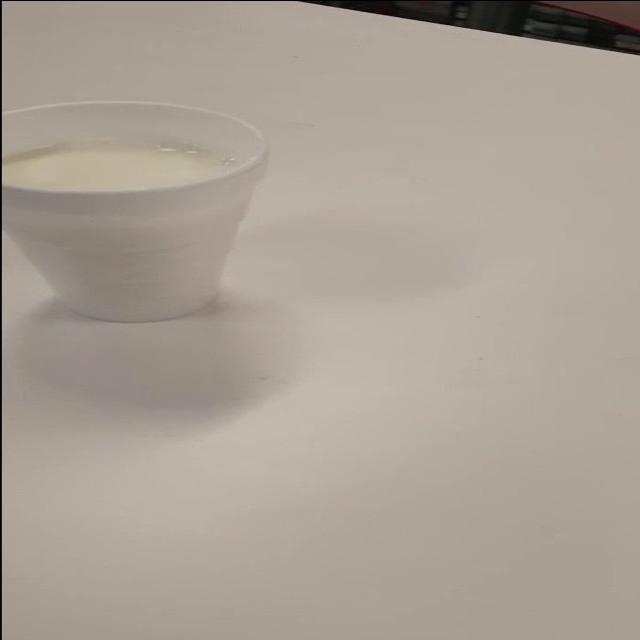Milk: (3, 86, 324, 343)
